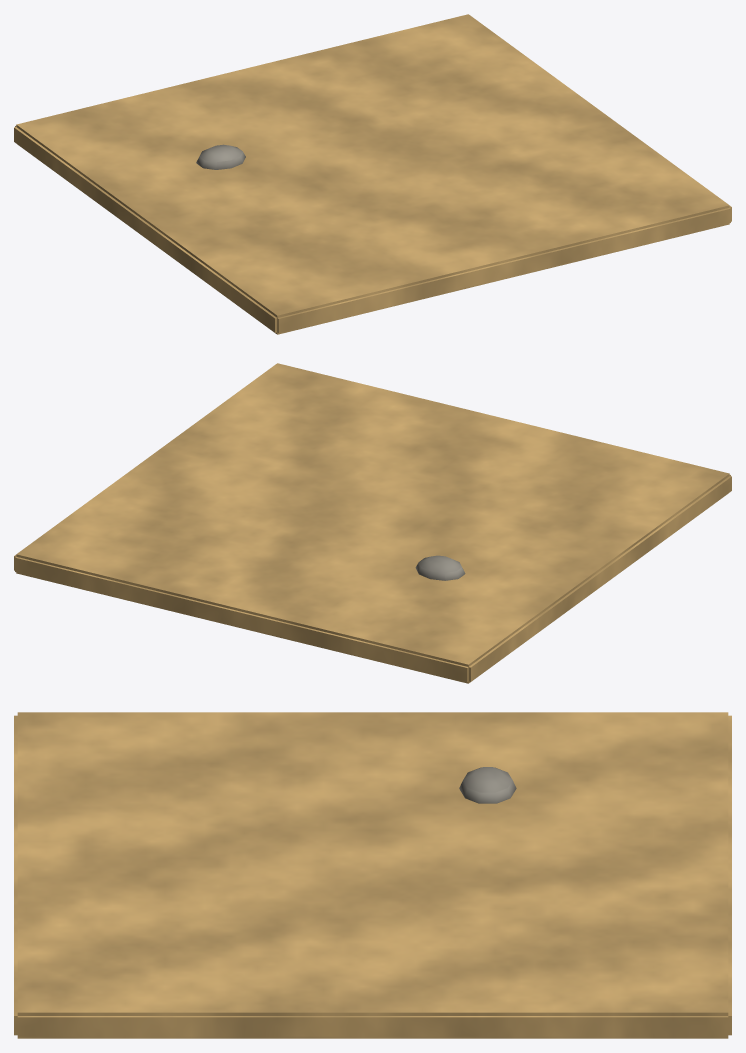
File: terrain_sand.glb
3 views of the same model, one above another, from view 1: azimuth 30°, elevation 25°; view 2: azimuth 150°, elevation 25°; view 3: azimuth 270°, elevation 25° (orthographic). The views are drawn at different scales.
Parts seen in each view (by area): view 1: terrain_sand; view 2: terrain_sand; view 3: terrain_sand.
Boxes of the visible parts, box(x1,y1,x2,y2) form: terrain_sand: box(14, 14, 731, 334); terrain_sand: box(14, 363, 731, 683); terrain_sand: box(14, 712, 731, 1038).
Size of the model in its own units: 1 by 0.067 by 1.
2 materials, 2 textured.
